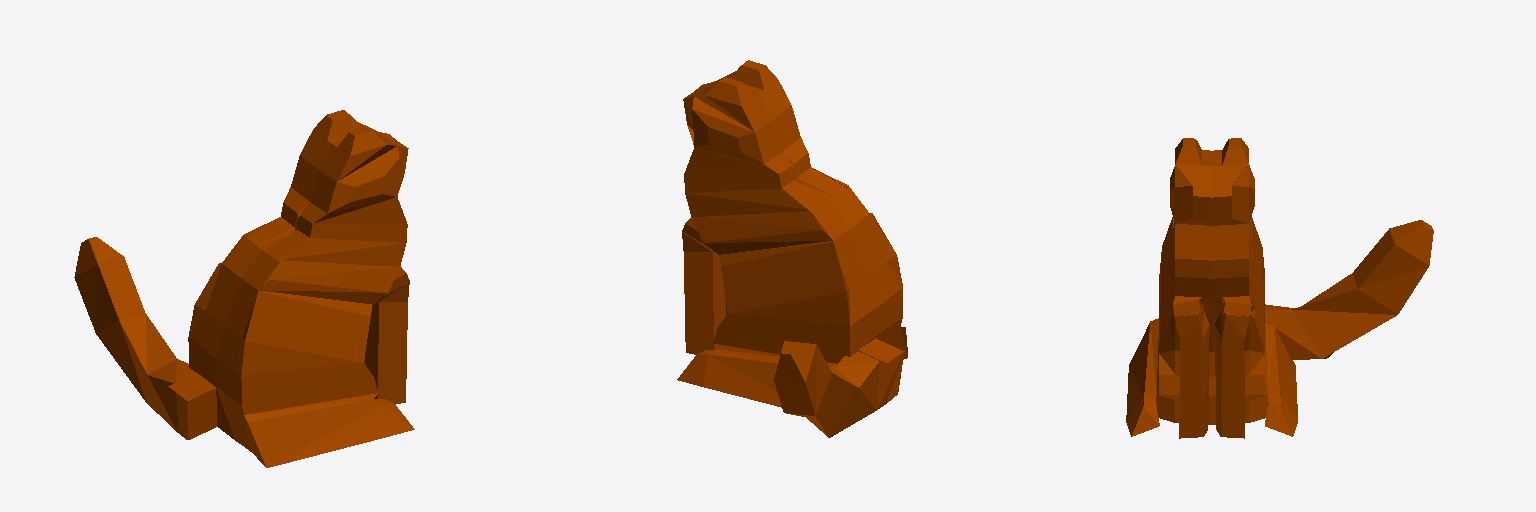
File: catito.obj
3 views of the same model, side by side, from view 1: azimuth 30°, elevation 25°; view 2: azimuth 150°, elevation 25°; view 3: azimuth 270°, elevation 25° (orthographic).
Parts seen in each view (by area): view 1: Plane; view 2: Plane; view 3: Plane.
Boxes of the visible parts, x1,y1,x2,y2 form: Plane: [74, 110, 414, 467]; Plane: [677, 60, 907, 437]; Plane: [1126, 138, 1433, 438].
Bounding box in the file's own units: 0.9712 × 1.22 × 1.18.